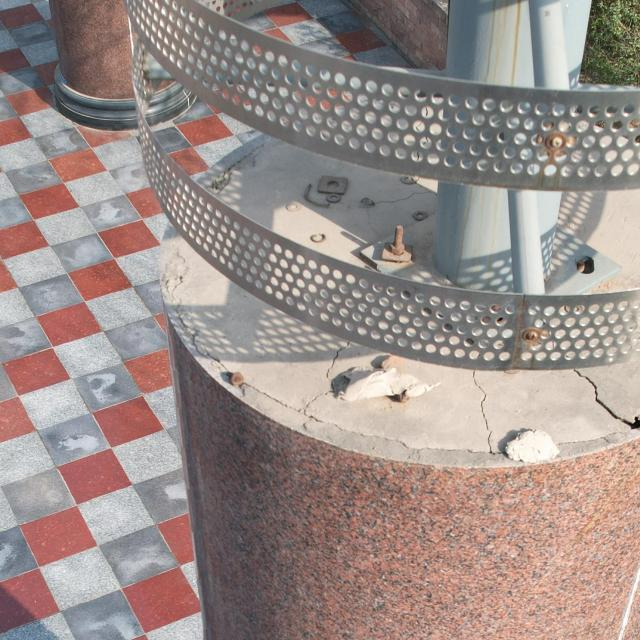blur bolt: (388, 240, 406, 256)
